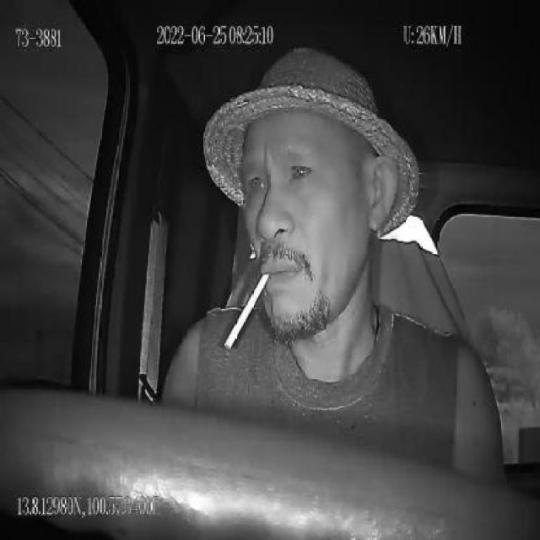smoking: (225, 273, 271, 356)
